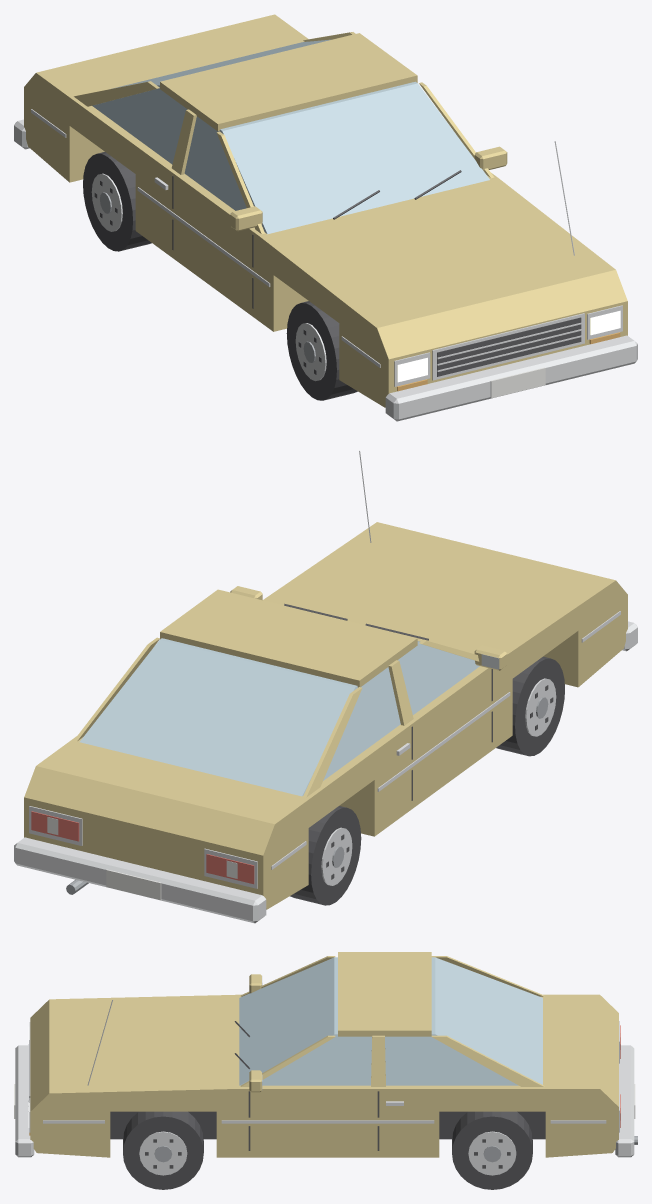
The model's file is car_coupe_y.glb.
3 views of the same model, one above another, from view 1: azimuth 30°, elevation 25°; view 2: azimuth 150°, elevation 25°; view 3: azimuth 270°, elevation 25° (orthographic). The views are drawn at different scales.
Parts seen in each view (by area): view 1: car_coupe_y_car_y, car_coupe_y_glass, car_coupe_y_chrome, car_coupe_y_rubber, car_coupe_y_dark, car_coupe_y_lamp_glass, car_coupe_y_paint_w; view 2: car_coupe_y_car_y, car_coupe_y_glass, car_coupe_y_chrome, car_coupe_y_rubber, car_coupe_y_neon_r, car_coupe_y_paint_w, car_coupe_y_dark; view 3: car_coupe_y_car_y, car_coupe_y_glass, car_coupe_y_rubber, car_coupe_y_chrome, car_coupe_y_dark, car_coupe_y_steel.
Part boxes in pixels (bbox=[...]): car_coupe_y_car_y: bbox=[24, 14, 627, 407]; car_coupe_y_glass: bbox=[92, 39, 489, 234]; car_coupe_y_chrome: bbox=[14, 109, 637, 421]; car_coupe_y_rubber: bbox=[83, 152, 357, 400]; car_coupe_y_dark: bbox=[94, 170, 581, 376]; car_coupe_y_lamp_glass: bbox=[397, 310, 620, 382]; car_coupe_y_paint_w: bbox=[490, 367, 545, 398]; car_coupe_y_car_y: bbox=[24, 522, 627, 909]; car_coupe_y_glass: bbox=[79, 638, 479, 796]; car_coupe_y_chrome: bbox=[14, 450, 637, 923]; car_coupe_y_rubber: bbox=[290, 656, 564, 905]; car_coupe_y_neon_r: bbox=[31, 811, 254, 884]; car_coupe_y_paint_w: bbox=[47, 817, 237, 900]; car_coupe_y_dark: bbox=[284, 603, 553, 879]; car_coupe_y_car_y: bbox=[30, 952, 618, 1157]; car_coupe_y_glass: bbox=[239, 957, 542, 1085]; car_coupe_y_rubber: bbox=[110, 1111, 545, 1189]; car_coupe_y_chrome: bbox=[15, 1000, 634, 1175]; car_coupe_y_dark: bbox=[29, 1021, 510, 1168]; car_coupe_y_steel: bbox=[154, 1136, 637, 1162].
Size of the model in its own units: 2 by 1.6 by 4.93.
